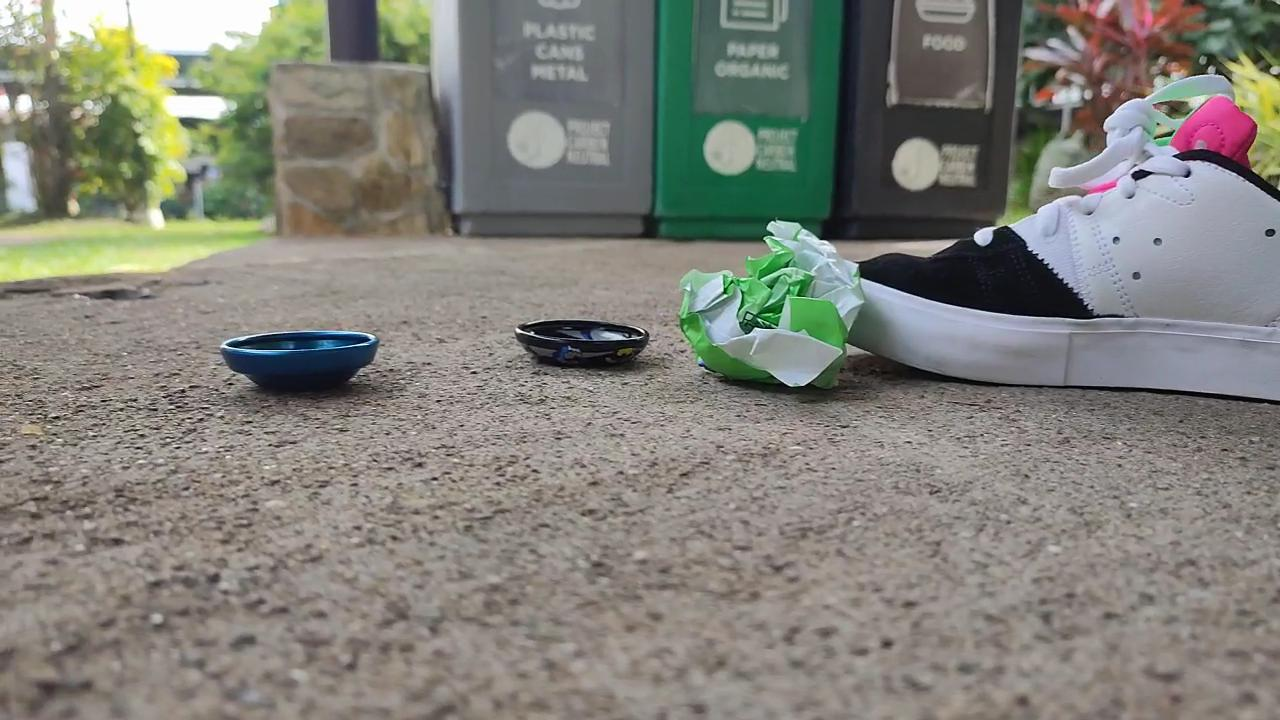Paper: (671, 210, 870, 406)
